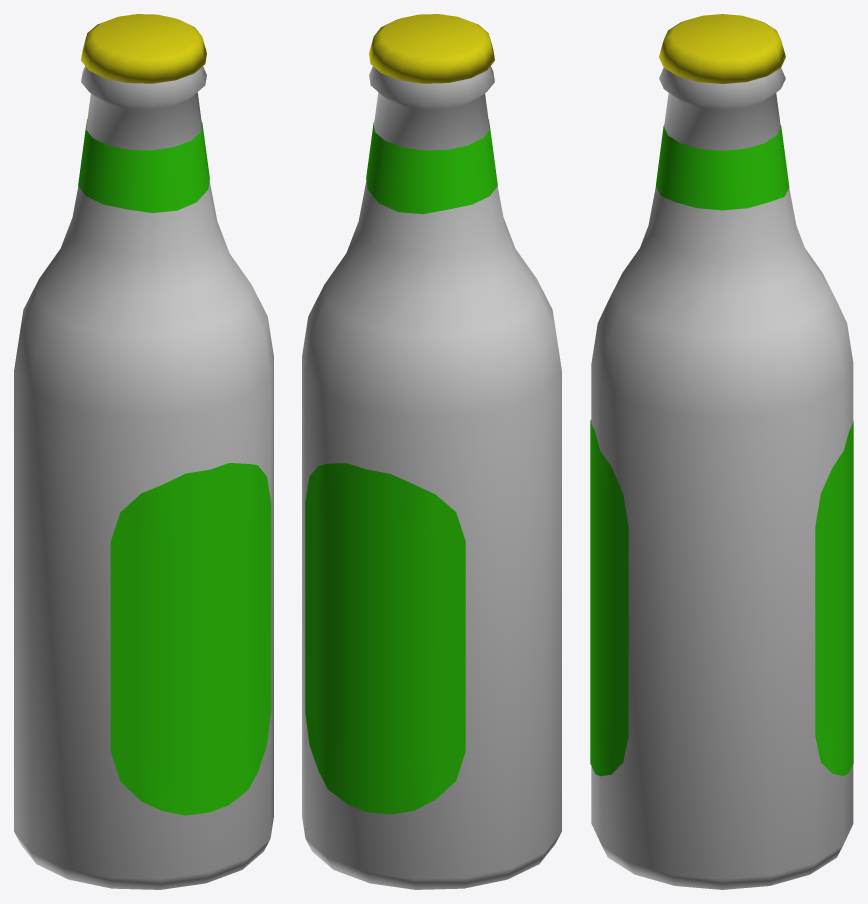
File: BHP_MOD_E_BOT_Beer.fbx
3 views of the same model, side by side, from view 1: azimuth 30°, elevation 25°; view 2: azimuth 150°, elevation 25°; view 3: azimuth 270°, elevation 25° (orthographic).
Parts seen in each view (by area): view 1: BHP_MOD_E_BOT_Beer; view 2: BHP_MOD_E_BOT_Beer; view 3: BHP_MOD_E_BOT_Beer.
Part boxes in pixels (x1=…): BHP_MOD_E_BOT_Beer: x1=14, y1=14, x2=273, y2=889; BHP_MOD_E_BOT_Beer: x1=302, y1=14, x2=561, y2=889; BHP_MOD_E_BOT_Beer: x1=590, y1=14, x2=853, y2=889.
Size of the model in its own units: 0.0683 by 0.2308 by 0.0687.
